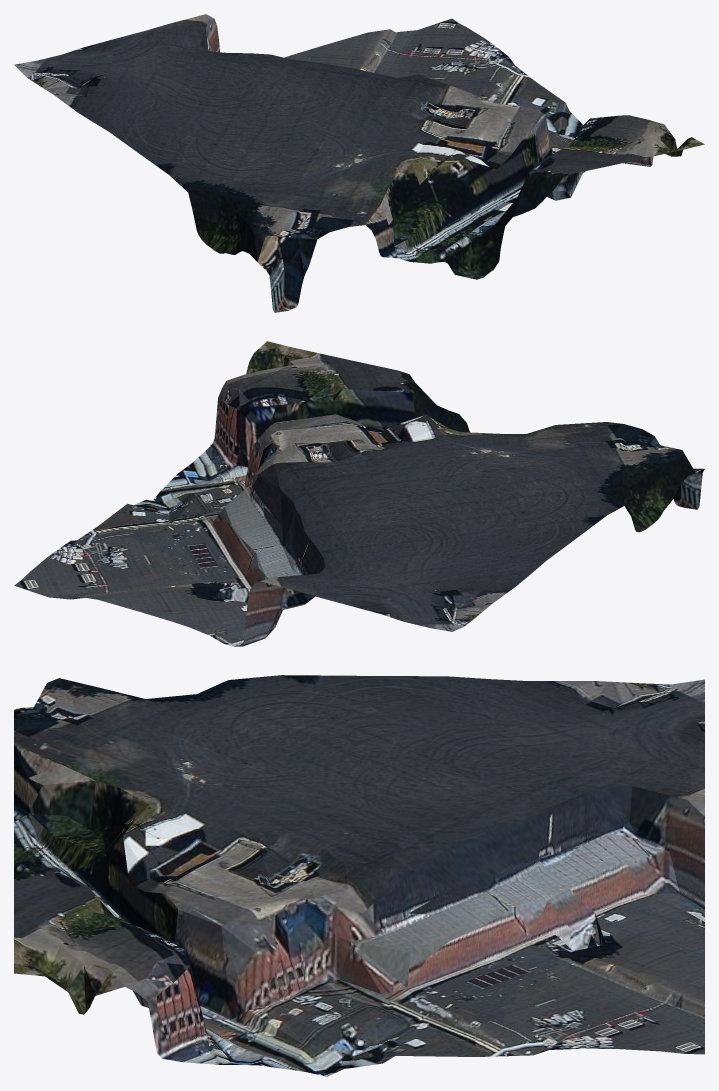
Rendered from map_15_8180_13783.dae.
The picture shows the model from 3 angles, top to bottom: view 1: azimuth 30°, elevation 25°; view 2: azimuth 150°, elevation 25°; view 3: azimuth 270°, elevation 25°; orthographic projection. The views are drawn at different scales.
Visible parts, largest first — view 1: Ter0; view 2: Ter0; view 3: Ter0.
Part boxes in pixels (bbox=[...]): Ter0: bbox=[14, 14, 704, 312]; Ter0: bbox=[14, 341, 704, 646]; Ter0: bbox=[14, 675, 704, 1076].
Size of the model in its own units: 63.88 by 63.88 by 12.48.
3 materials, 3 textured.
